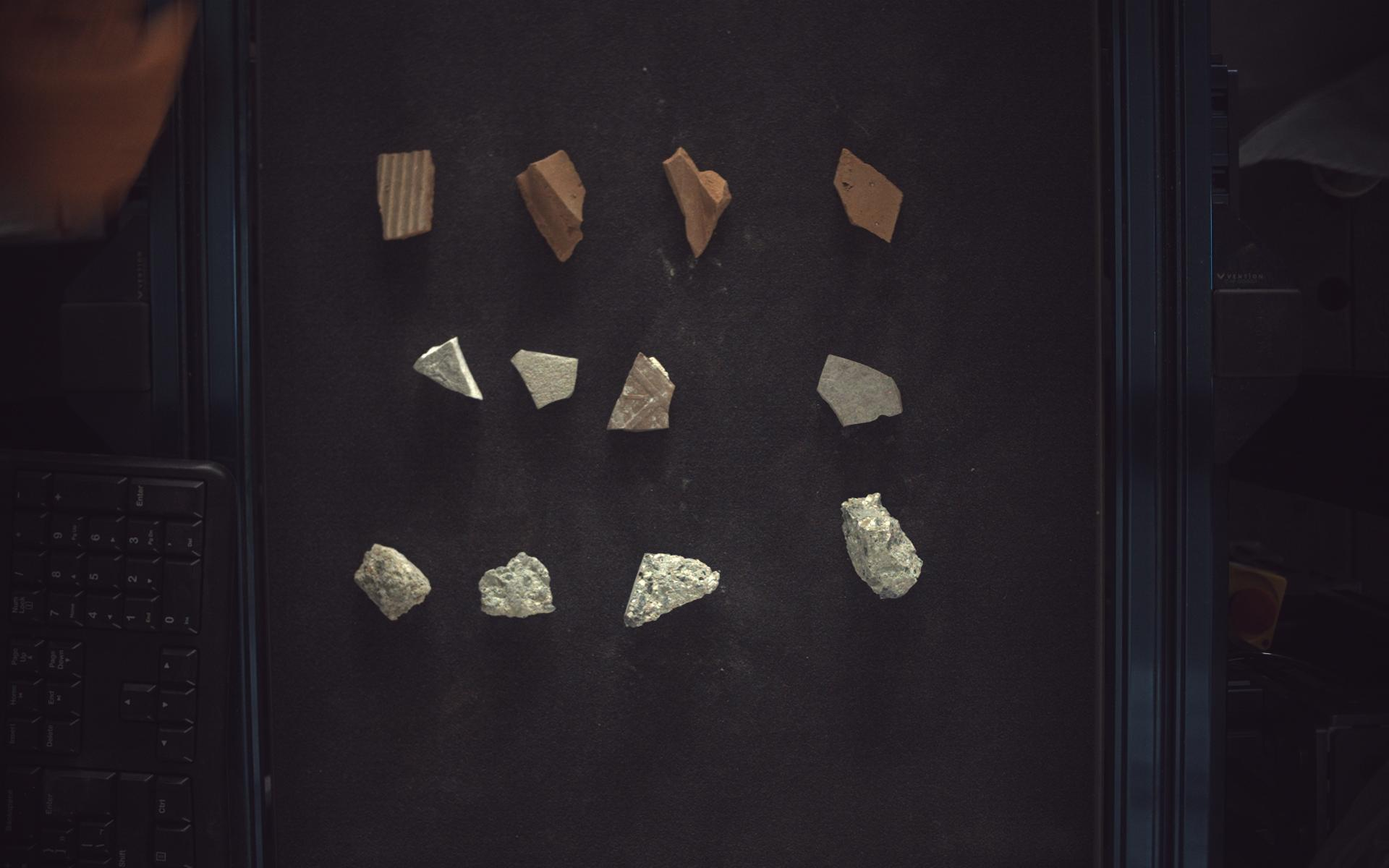brick: (517, 149, 586, 261), (664, 146, 733, 257), (836, 147, 904, 242), (377, 149, 435, 239)
concrete: (843, 493, 924, 600), (625, 554, 721, 628), (354, 545, 431, 621), (479, 553, 555, 618)
tile: (819, 354, 904, 426), (608, 353, 676, 432), (415, 337, 482, 400), (511, 349, 579, 409)
